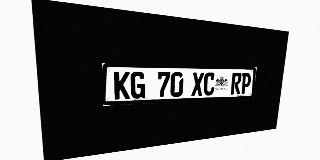0: (170, 72, 184, 97)
7: (156, 72, 170, 98)
C: (203, 72, 215, 96)
G: (130, 72, 145, 99)
K: (114, 71, 130, 100)
P: (240, 73, 251, 94)
R: (230, 73, 242, 94)
X: (191, 72, 204, 96)
